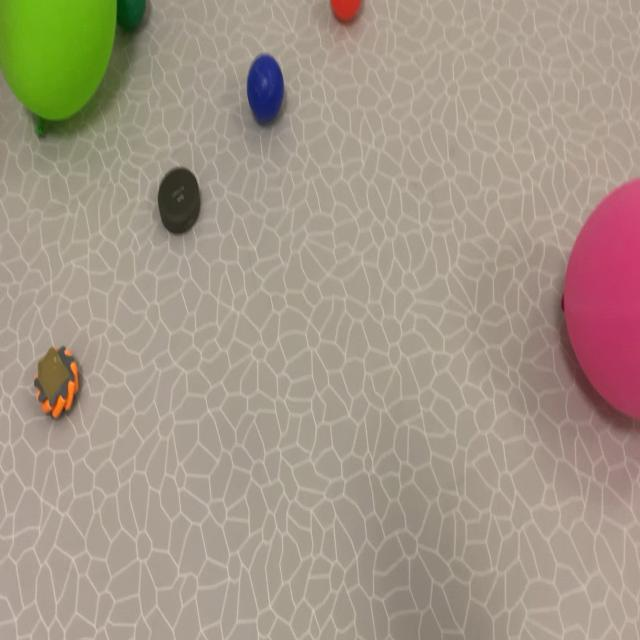green ball: (236, 47, 305, 179)
red ball: (117, 0, 157, 62)
